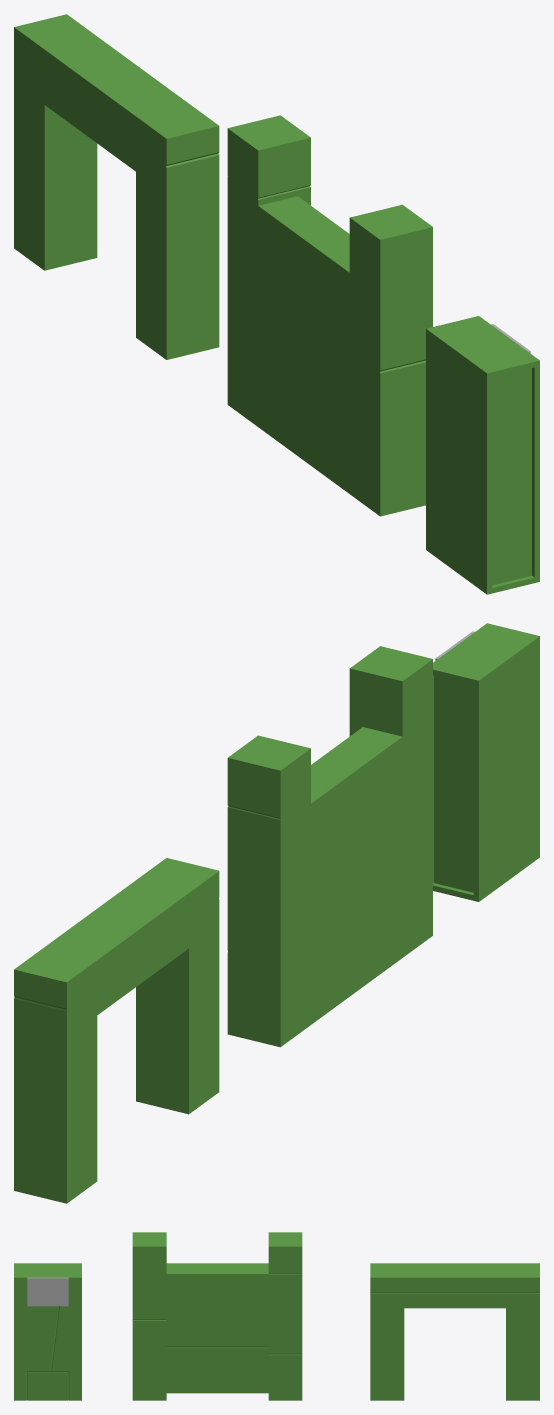
File: Duvar.fbx
3 views of the same model, one above another, from view 1: azimuth 30°, elevation 25°; view 2: azimuth 150°, elevation 25°; view 3: azimuth 270°, elevation 25° (orthographic). The views are drawn at different scales.
Parts seen in each view (by area): view 1: Cube, Cube.001, Cube.002; view 2: Cube, Cube.001, Cube.002; view 3: Cube, Cube.001, Cube.002.
Boxes of the visible parts, left/top/right/bottom form: Cube: left=227, top=115, right=432, bottom=516; Cube.001: left=14, top=14, right=219, bottom=359; Cube.002: left=426, top=316, right=539, bottom=594; Cube: left=227, top=646, right=432, bottom=1047; Cube.001: left=14, top=858, right=219, bottom=1203; Cube.002: left=432, top=623, right=539, bottom=901; Cube: left=132, top=1232, right=302, bottom=1400; Cube.001: left=370, top=1263, right=539, bottom=1400; Cube.002: left=14, top=1263, right=81, bottom=1400.
Size of the model in its own units: 2.1 by 10 by 31.
